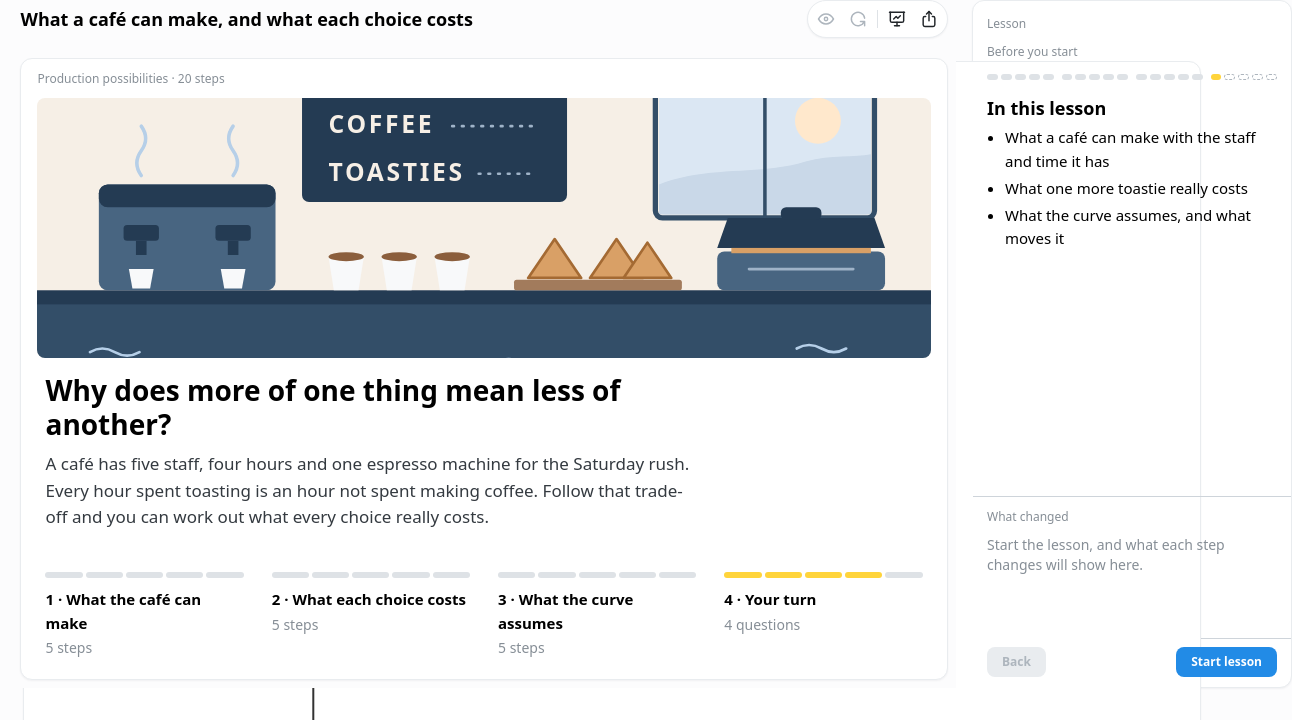
it: the questions › puts A, B and Z away, and offers the same three changes every time
This screenshot has width=1292, height=720.
Click the button named "Step 16 of 20: A bigger sandwich press": (1216, 77) [1210,67,1221,87]
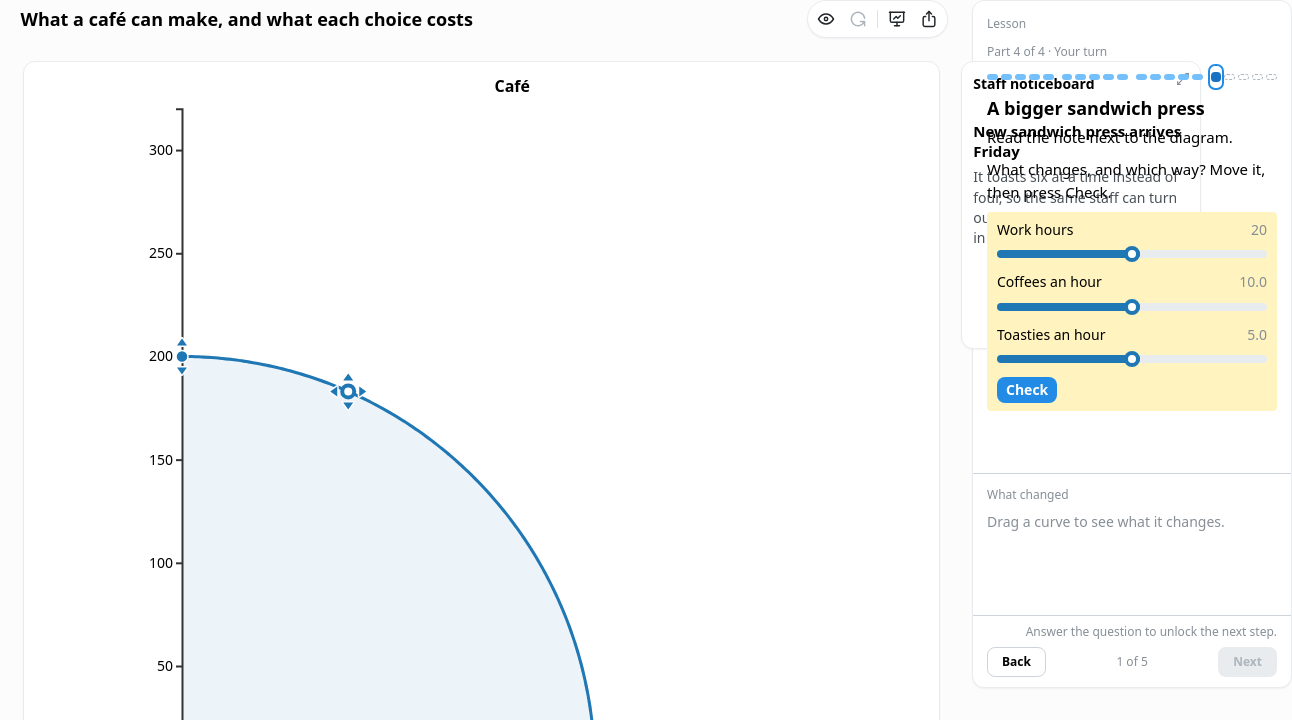
Result: the element that starts with "New sandwich press arrives Friday" is shown at [973,121,1181,161]
